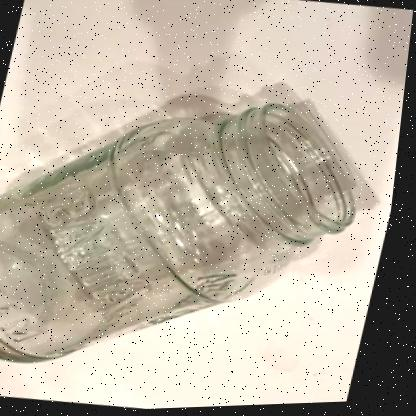Glass: (0, 104, 361, 362)
